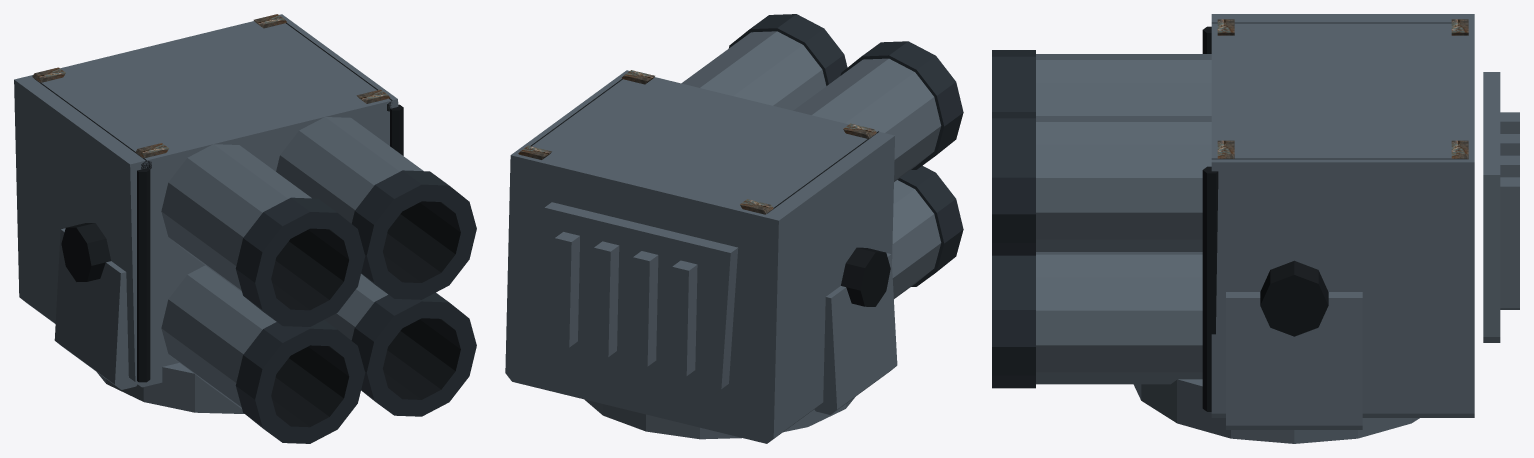
The model's file is gunn-turret.glb.
The picture shows the model from 3 angles, left to right: view 1: azimuth 30°, elevation 25°; view 2: azimuth 150°, elevation 25°; view 3: azimuth 270°, elevation 25°; orthographic projection. The views are drawn at different scales.
Visible parts, largest first — view 1: gunn-turret-head-metal, gunn-turret-base-metal; view 2: gunn-turret-head-metal, gunn-turret-heat-panel-metal, gunn-turret-base-metal; view 3: gunn-turret-head-metal, gunn-turret-base-metal, gunn-turret-heat-panel-metal.
Boxes of the visible parts, x1=… form: gunn-turret-head-metal: x1=14, y1=14, x2=476, y2=443; gunn-turret-base-metal: x1=54, y1=223, x2=244, y2=413; gunn-turret-head-metal: x1=505, y1=14, x2=963, y2=443; gunn-turret-heat-panel-metal: x1=535, y1=202, x2=738, y2=396; gunn-turret-base-metal: x1=584, y1=247, x2=897, y2=439; gunn-turret-head-metal: x1=992, y1=14, x2=1474, y2=417; gunn-turret-base-metal: x1=1133, y1=260, x2=1419, y2=443; gunn-turret-heat-panel-metal: x1=1483, y1=72, x2=1519, y2=342.
Size of the model in its own units: 0.966 by 0.7475 by 1.24.
5 materials, 1 textured.
